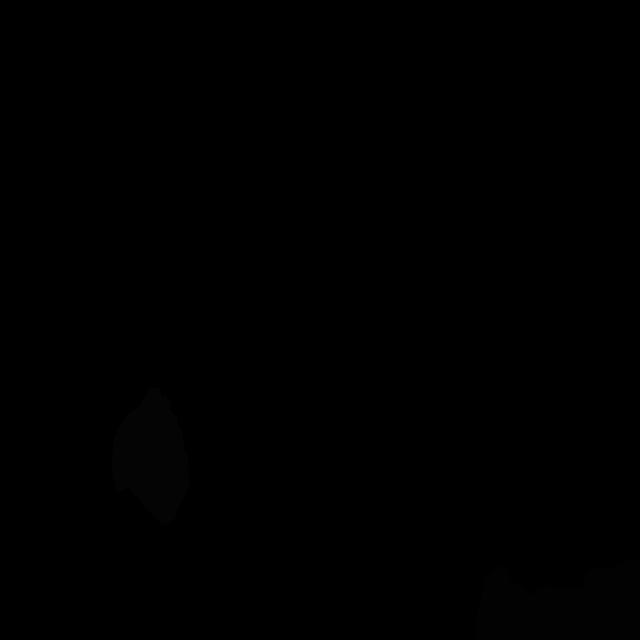cardboard: (476, 559, 640, 640)
soft_plastic: (112, 387, 190, 525)
